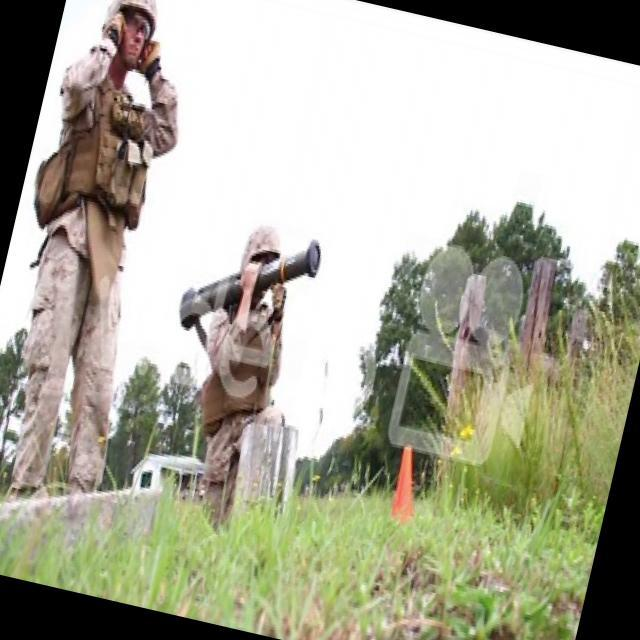rocket: (172, 210, 326, 366)
